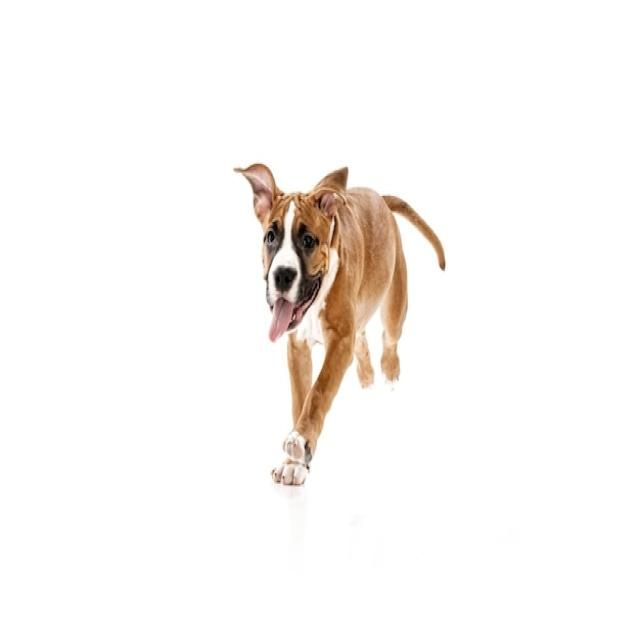Dog: (232, 162, 446, 484)
